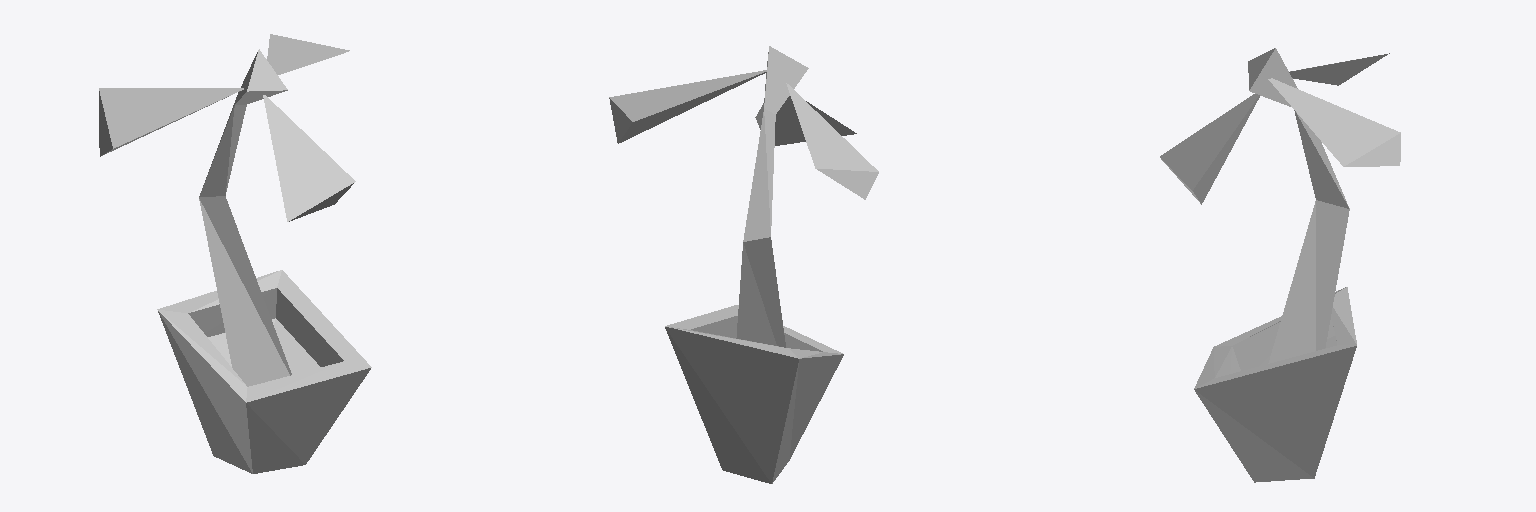
Rendered from ASSET_plante.obj.
The picture shows the model from 3 angles: view 1: azimuth 30°, elevation 25°; view 2: azimuth 150°, elevation 25°; view 3: azimuth 270°, elevation 25°; orthographic projection.
Visible parts, largest first — view 1: PLANTE_Cube; view 2: PLANTE_Cube; view 3: PLANTE_Cube.
Part boxes in pixels (bbox=[...]): PLANTE_Cube: bbox=[99, 34, 371, 473]; PLANTE_Cube: bbox=[609, 46, 878, 483]; PLANTE_Cube: bbox=[1160, 48, 1400, 482].
Size of the model in its own units: 2.62 by 4.11 by 2.16.